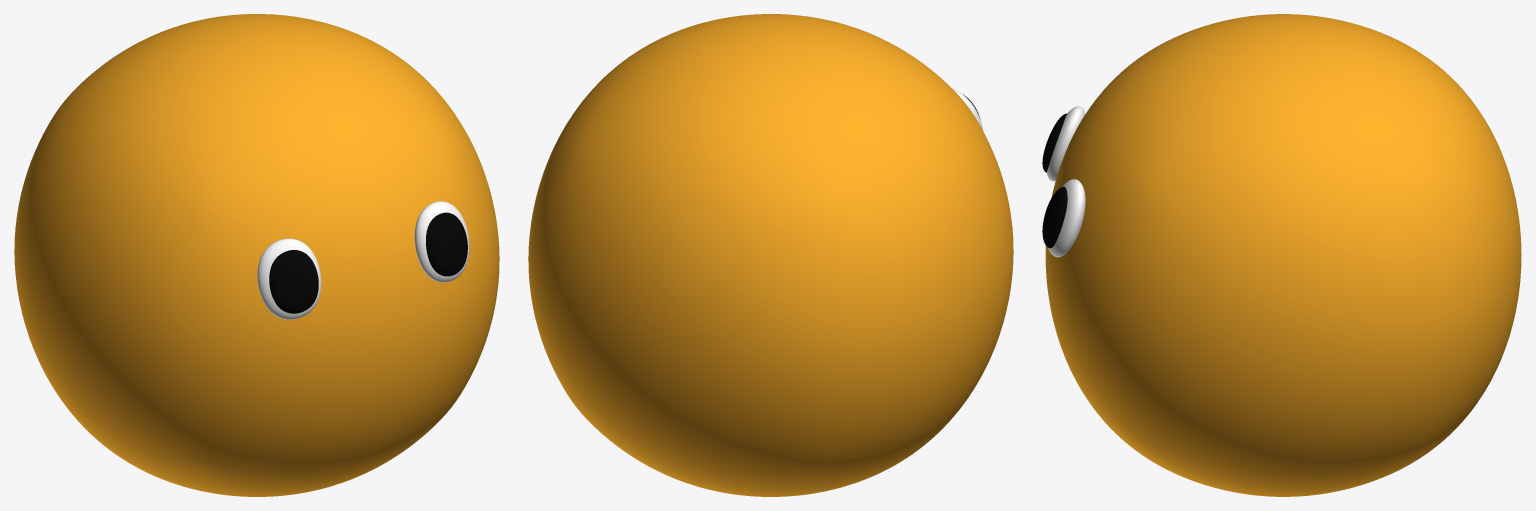
File: Mute.glb
3 renders of one model, left to right at view 1: azimuth 30°, elevation 25°; view 2: azimuth 150°, elevation 25°; view 3: azimuth 270°, elevation 25°, orthographic.
Visible parts, largest first — view 1: Cube_Cube.007, Cube.002_Cube.005, Cube.001_Cube.006; view 2: Cube_Cube.007; view 3: Cube_Cube.007, Cube.001_Cube.006, Cube.002_Cube.005.
Boxes of the visible parts, x1,y1,x2,y2 form: Cube_Cube.007: (14,14,499,496); Cube.002_Cube.005: (269,212,467,313); Cube.001_Cube.006: (257,201,469,319); Cube_Cube.007: (528,14,1013,496); Cube_Cube.007: (1045,14,1521,496); Cube.001_Cube.006: (1047,106,1085,257); Cube.002_Cube.005: (1042,113,1067,248).
Size of the model in its own units: 1.66 by 1.66 by 1.67.
